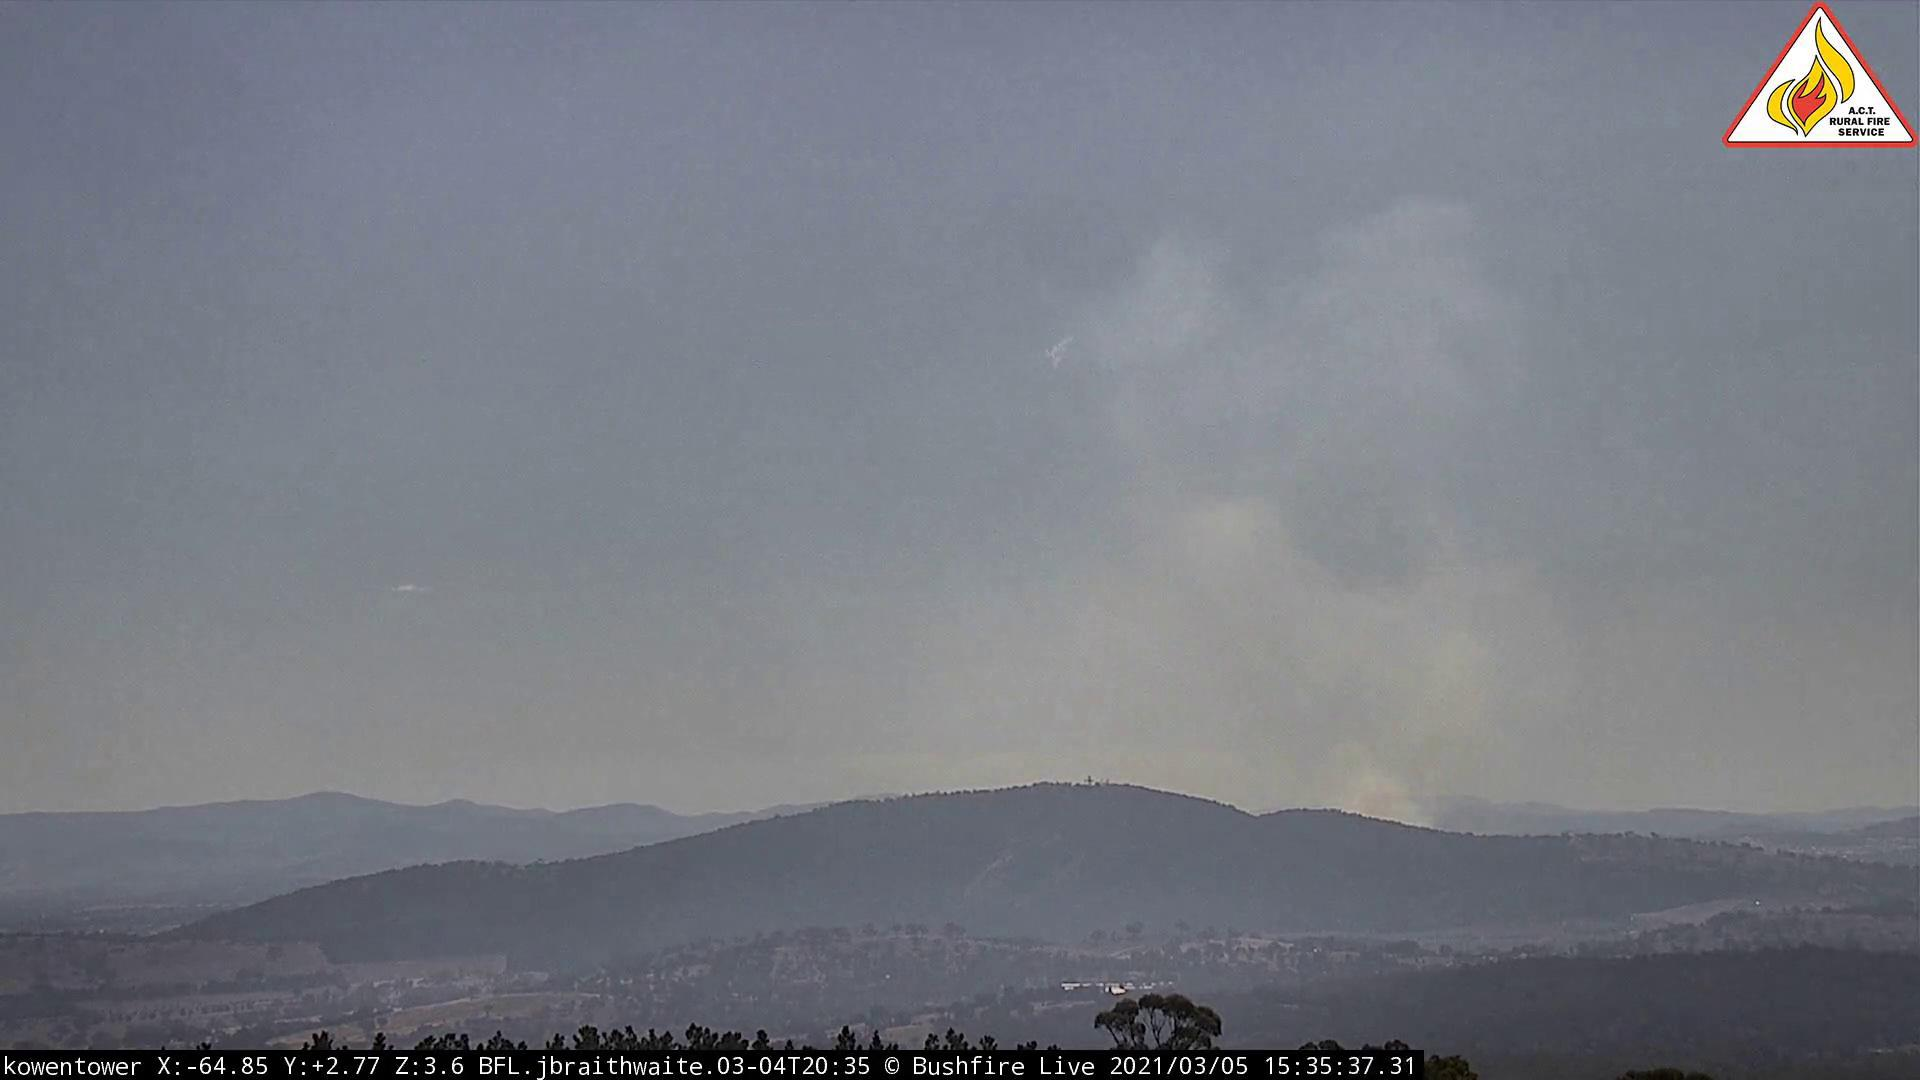Smoke: (957, 178, 1578, 851)
